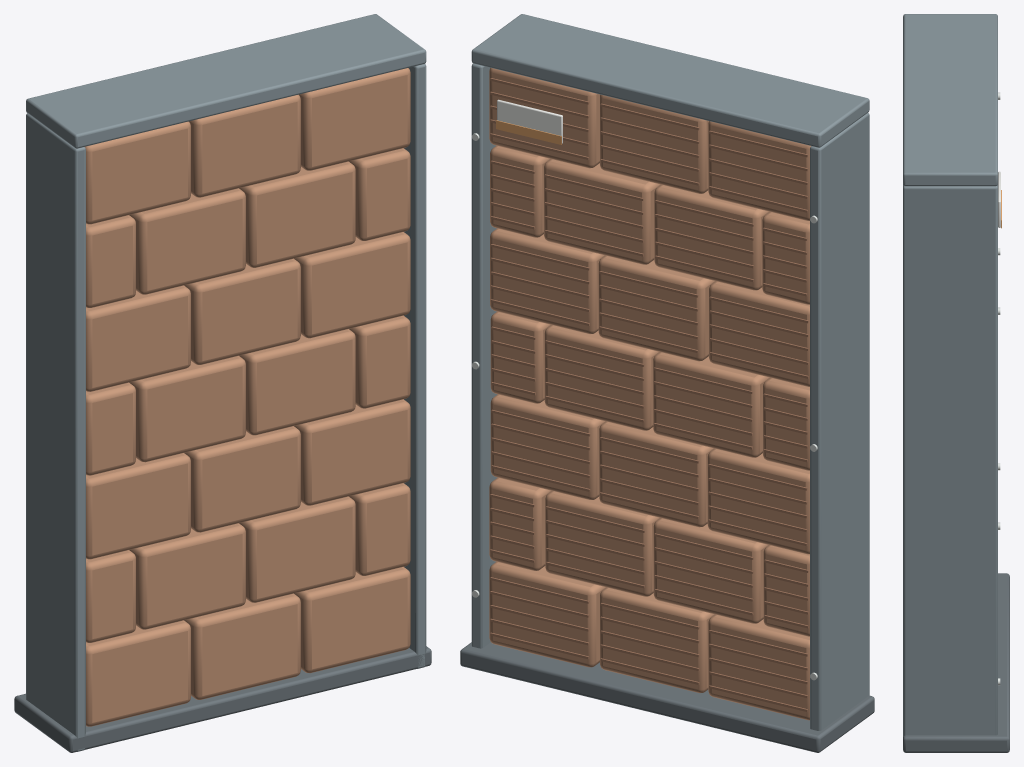
Rendered from regolith_shield_block.glb.
3 renders of one model, left to right at view 1: azimuth 30°, elevation 25°; view 2: azimuth 150°, elevation 25°; view 3: azimuth 270°, elevation 25°, orthographic. The views are drawn at different scales.
Parts seen in each view (by area): view 1: blocks_regolith_printed, frame_left_dark_alloy, frame_top_dark_alloy, frame_right_dark_alloy, frame_base_graphite; view 2: blocks_regolith_printed, layer_lines_regolith_dark, frame_left_dark_alloy, frame_top_dark_alloy, frame_base_graphite, frame_right_dark_alloy, tag_plate_white_painted; view 3: frame_right_dark_alloy, frame_top_dark_alloy, frame_base_graphite.
Boxes of the visible parts, x1,y1,x2,y2 form: blocks_regolith_printed: [85, 68, 410, 726]; frame_left_dark_alloy: [26, 113, 85, 751]; frame_top_dark_alloy: [26, 14, 426, 148]; frame_right_dark_alloy: [404, 64, 426, 668]; frame_base_graphite: [14, 646, 431, 752]; blocks_regolith_printed: [489, 67, 810, 720]; layer_lines_regolith_dark: [490, 78, 808, 711]; frame_left_dark_alloy: [810, 113, 869, 730]; frame_top_dark_alloy: [471, 14, 869, 147]; frame_base_graphite: [460, 642, 874, 752]; frame_right_dark_alloy: [471, 63, 497, 648]; tag_plate_white_painted: [497, 99, 562, 143]; frame_right_dark_alloy: [903, 185, 997, 736]; frame_top_dark_alloy: [903, 14, 997, 186]; frame_base_graphite: [903, 573, 1009, 752].
Bounding box in the file's own units: 1.32 × 2.15 × 0.36.
